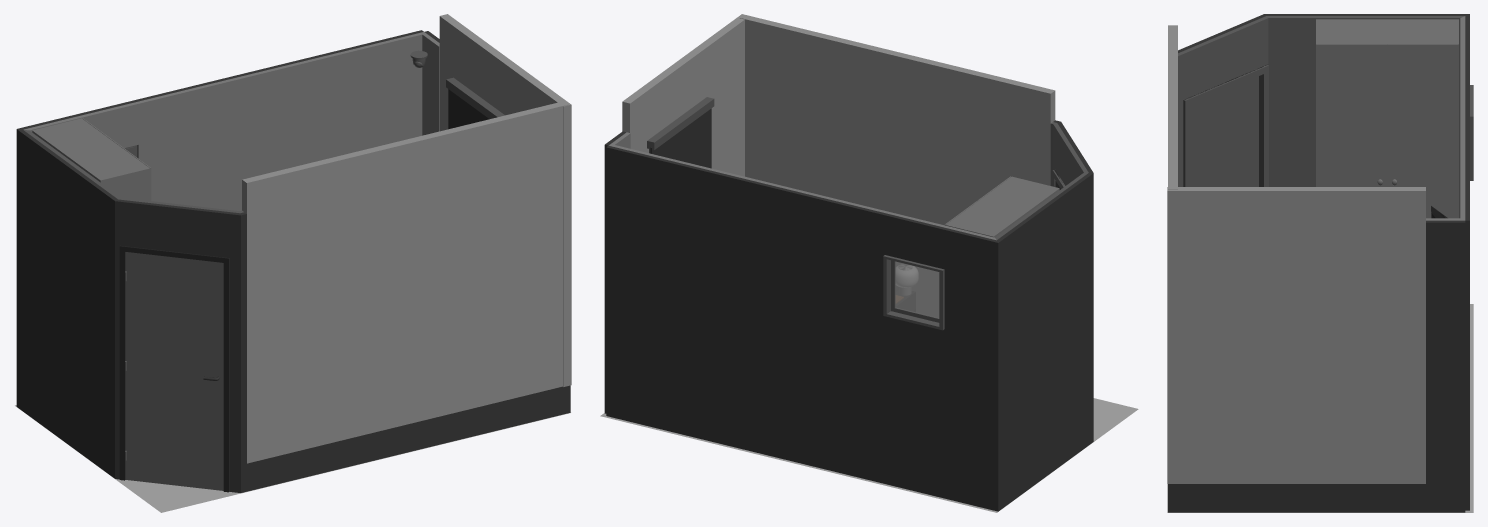
Rendered from Huone.obj.
3 views of the same model, side by side, from view 1: azimuth 30°, elevation 25°; view 2: azimuth 150°, elevation 25°; view 3: azimuth 270°, elevation 25° (orthographic). The views are drawn at different scales.
Parts seen in each view (by area): view 1: Box001_1_122, wall_5_29, wall_4_22, sweethome3d_opening_on_hinge_1_door_42, wall_2_10, wall_3_16, Box001_1_123, Corps_58, Montant_33, ground_1, wall_1_5, wall_5_30 (+2 smaller); view 2: wall_5_28, Box001_1_122, wall_4_22, Box001_1_123, Corps_58, sweethome3d_window_pane_on_hinge_1_57, ground_1, front_182, frame_50, wall_5_30, wall_5_31, wall_3_17 (+1 smaller); view 3: Box001_1_123, wall_1_4, sweethome3d_opening_on_hinge_2_door_66, sweethome3d_opening_on_hinge_1_door_60, wall_4_23, sweethome3d_opening_on_hinge_1_door_42, wall_3_17, Corps_58, frame_34, Box001_1_122, wall_5_28, wall_5_31 (+5 smaller).
Part boxes in pixels (box(x1,y1,x2,y2)): Box001_1_122: box(242, 101, 568, 463); wall_5_29: box(29, 34, 422, 210); wall_4_22: box(16, 129, 114, 478); sweethome3d_opening_on_hinge_1_door_42: box(126, 252, 223, 490); wall_2_10: box(241, 214, 570, 492); wall_3_16: box(115, 201, 240, 492); Box001_1_123: box(439, 14, 571, 386); Corps_58: box(32, 118, 150, 200); Montant_33: box(119, 245, 229, 492); ground_1: box(15, 405, 570, 512); wall_1_5: box(422, 35, 439, 135); wall_5_30: box(17, 30, 423, 129); wall_5_28: box(606, 147, 998, 511); Box001_1_122: box(740, 14, 1055, 317); wall_4_22: box(998, 173, 1093, 511); Box001_1_123: box(622, 14, 744, 176); Corps_58: box(945, 176, 1059, 237); sweethome3d_window_pane_on_hinge_1_57: box(895, 261, 939, 318); ground_1: box(600, 398, 1138, 512); front_182: box(652, 108, 711, 168); frame_50: box(883, 255, 944, 330); wall_5_30: box(606, 145, 997, 242); wall_5_31: box(609, 144, 996, 240); wall_3_17: box(1053, 125, 1083, 185); Box001_1_123: box(1167, 187, 1425, 483); wall_1_4: box(1168, 222, 1465, 512); sweethome3d_opening_on_hinge_2_door_66: box(1387, 44, 1458, 218); sweethome3d_opening_on_hinge_1_door_60: box(1316, 44, 1387, 186); wall_4_23: box(1268, 18, 1460, 218); sweethome3d_opening_on_hinge_1_door_42: box(1190, 76, 1258, 186); wall_3_17: box(1178, 18, 1268, 186); Corps_58: box(1316, 19, 1458, 218); frame_34: box(1183, 65, 1268, 186); Box001_1_122: box(1168, 25, 1177, 189); wall_5_28: box(1465, 220, 1469, 510); wall_5_31: box(1460, 16, 1465, 220).
Size of the model in its own units: 383 by 275 by 237.
114 materials, 14 textured.
